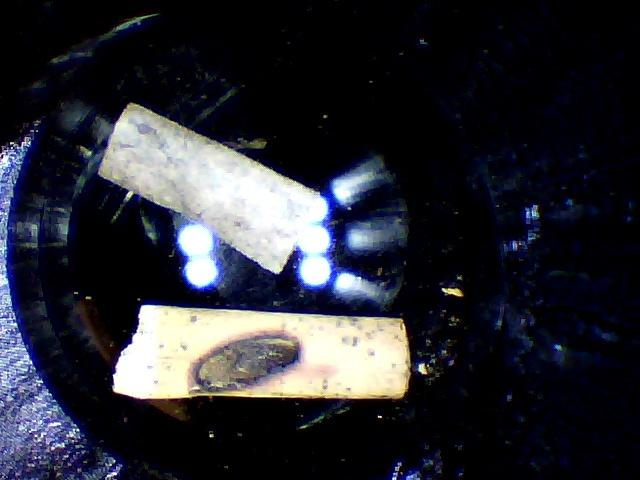megot: (93, 97, 332, 275), (95, 296, 439, 415)
